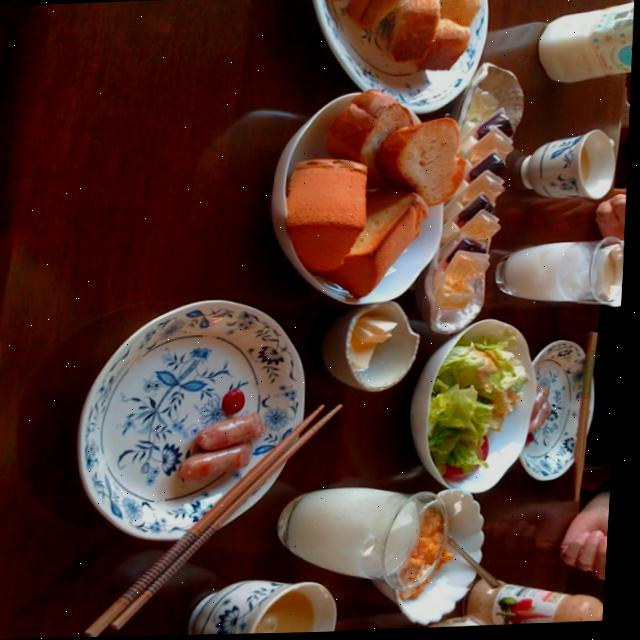蔬菜料理: (403, 317, 545, 502)
